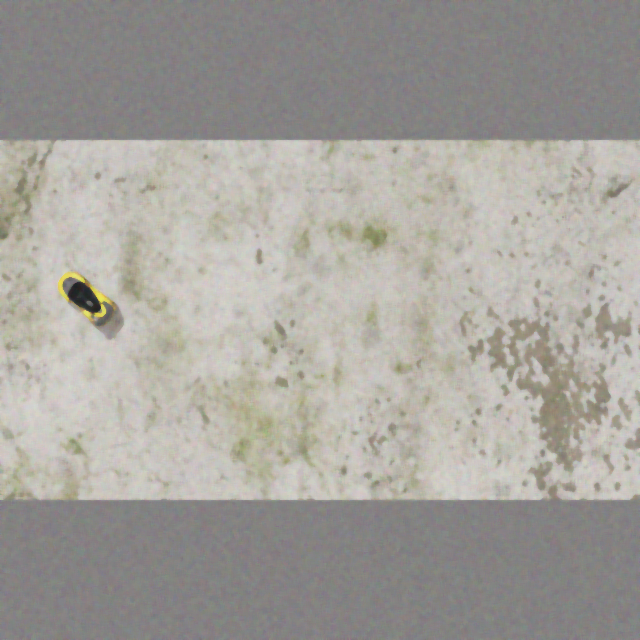car: (46, 263, 123, 330)
